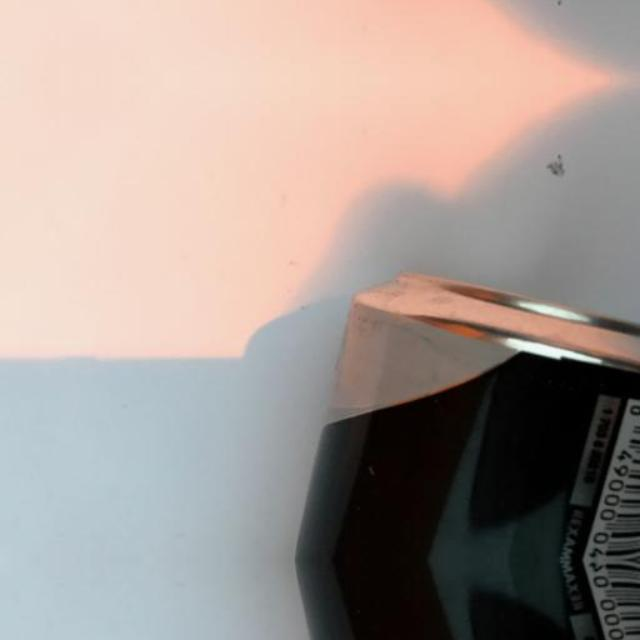Metal: (278, 267, 640, 558), (278, 561, 640, 640)
